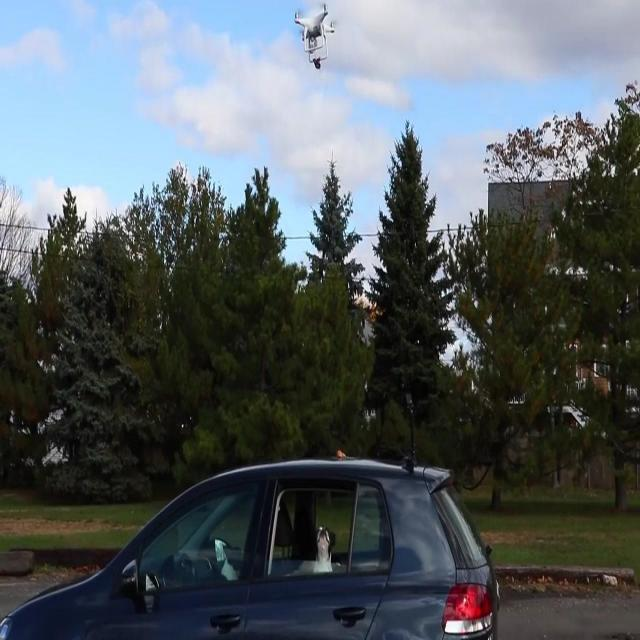UAV: (294, 3, 336, 69)
